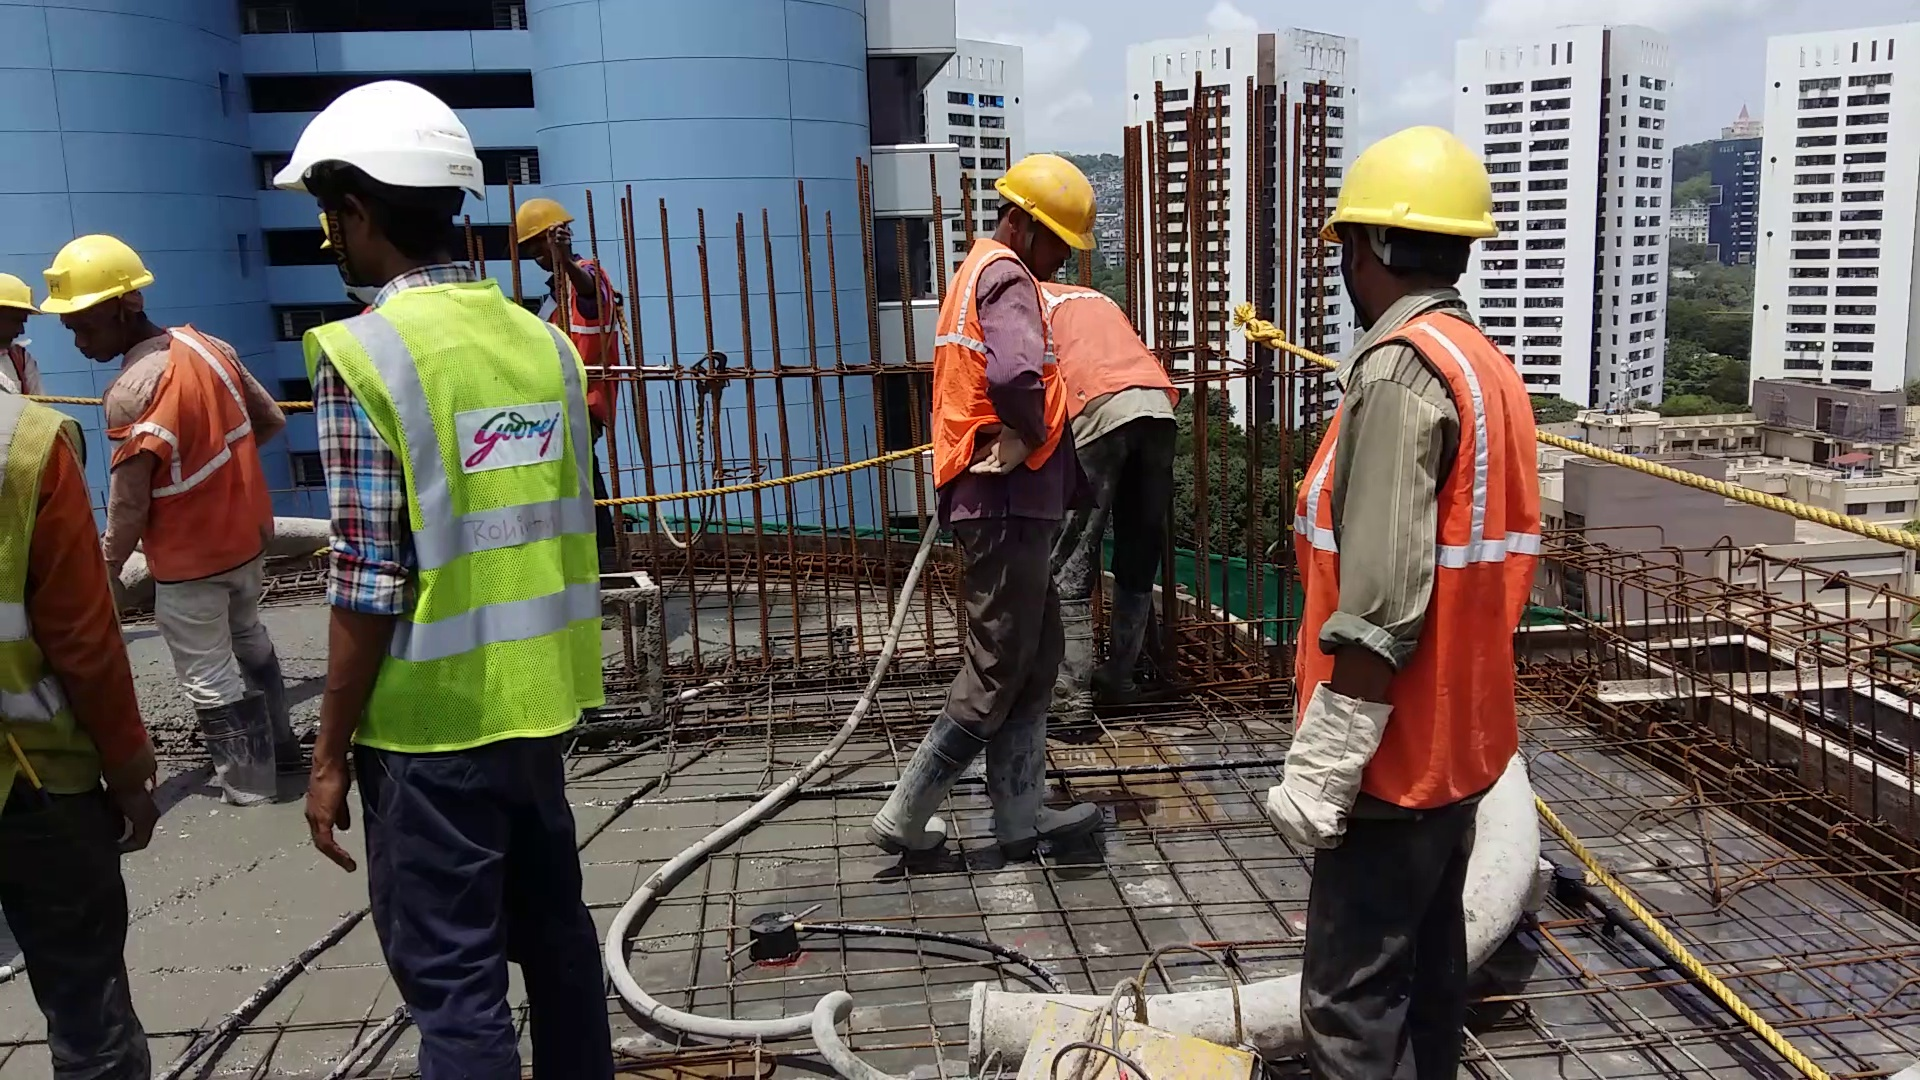SAFE: (284, 51, 603, 744), (1258, 121, 1545, 814), (46, 228, 281, 588), (916, 128, 1124, 500)
